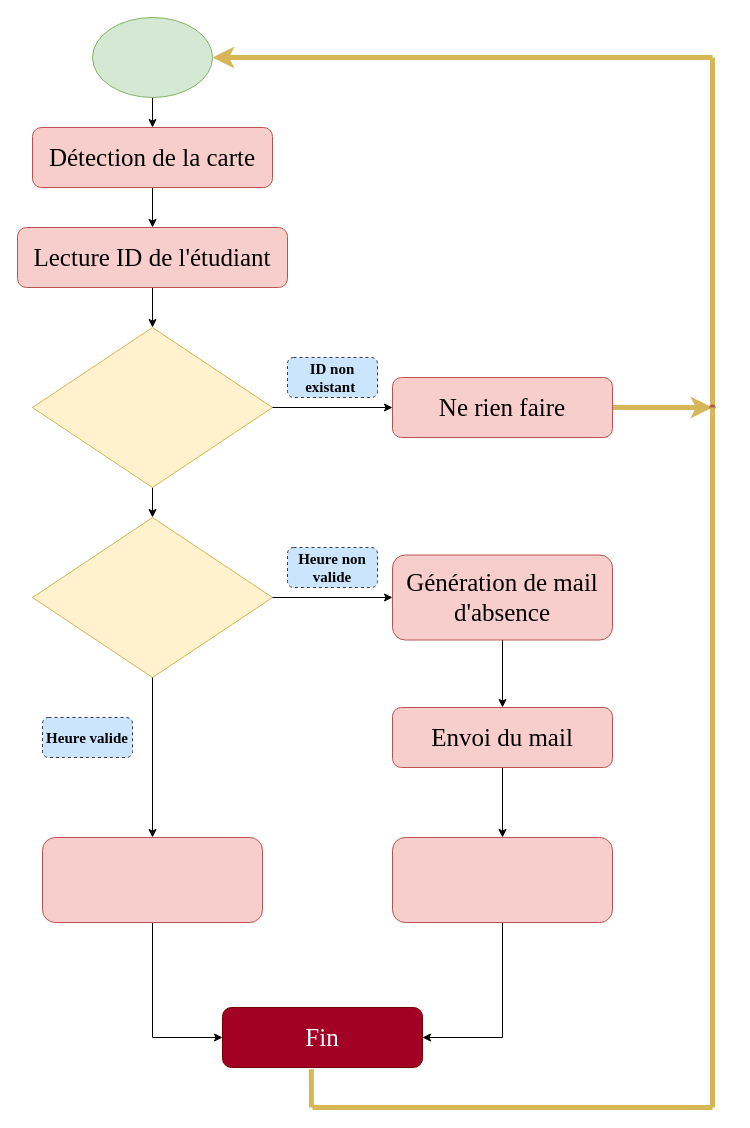
Some shapes in this 750 by 1128 pixel diagram are drawn without their labels. Each missing label, with the centre of its shape:
Début: the point at 152,57
Pointer en tant qu'absent: the point at 502,879
Pointer en tant que présent: the point at 152,879
Vérification de l'existence l'ID: the point at 152,407
Vérification de la séance: the point at 152,597
